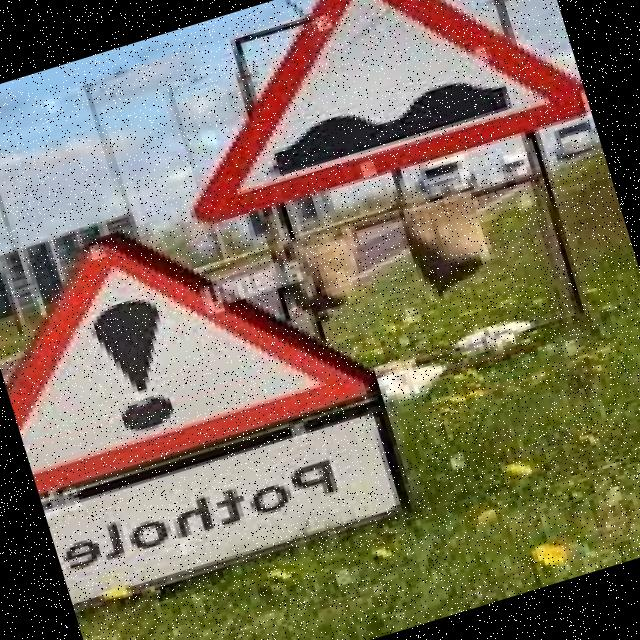warning: (0, 167, 386, 499)
